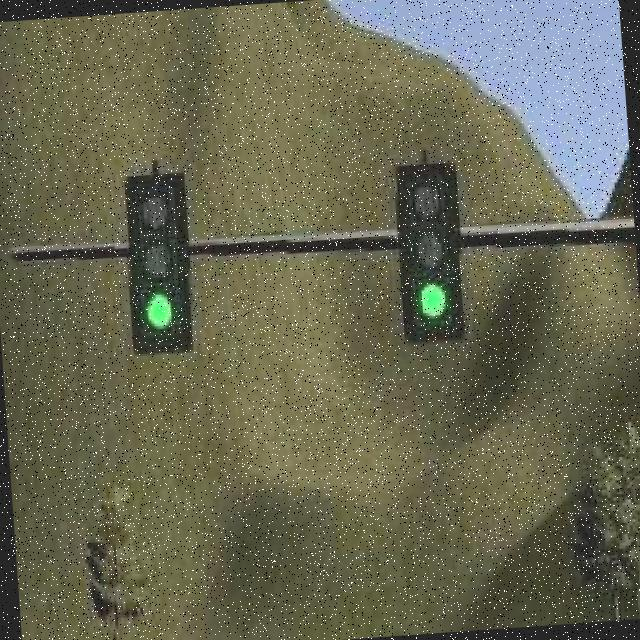Zielone swiatlo: (390, 162, 468, 344), (122, 172, 200, 353)
